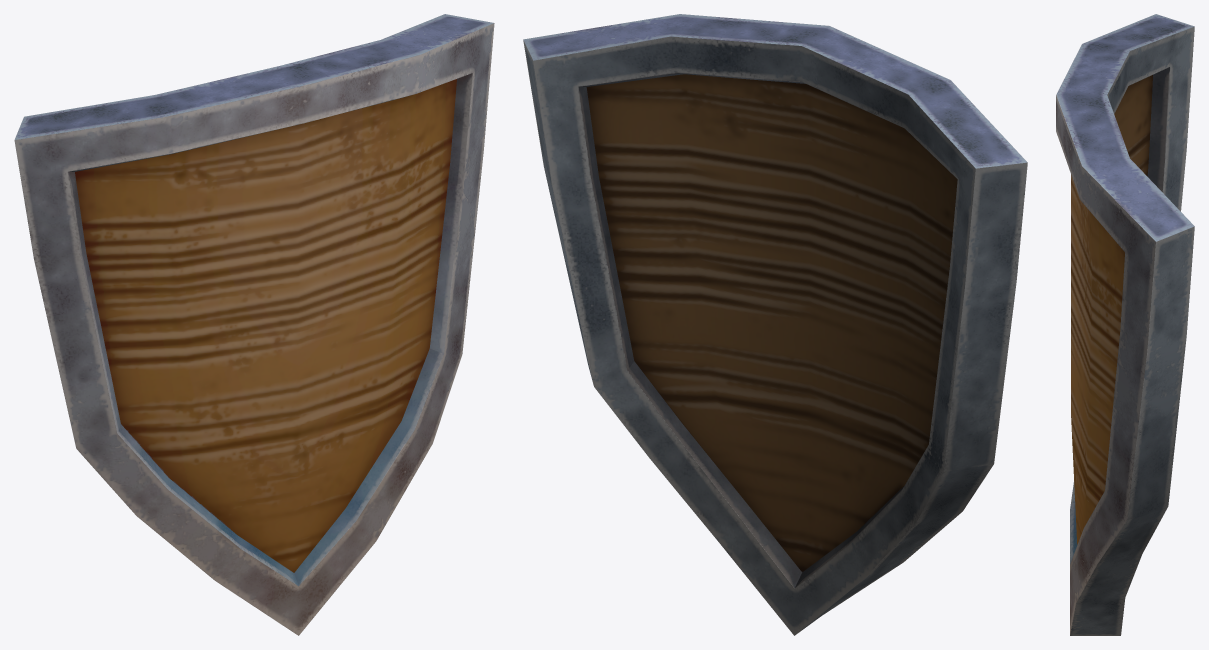
The model's file is PH_Item.fbx.
3 renders of one model, left to right at view 1: azimuth 30°, elevation 25°; view 2: azimuth 150°, elevation 25°; view 3: azimuth 270°, elevation 25°, orthographic. The views are drawn at different scales.
Parts seen in each view (by area): view 1: PH_Item; view 2: PH_Item; view 3: PH_Item.
Part boxes in pixels (bbox=[...]): PH_Item: bbox=[14, 14, 494, 635]; PH_Item: bbox=[523, 14, 1027, 635]; PH_Item: bbox=[1056, 14, 1194, 635].
Size of the model in its own units: 29.38 by 32.52 by 7.56.
Materials: 1 (1 with a texture image).
